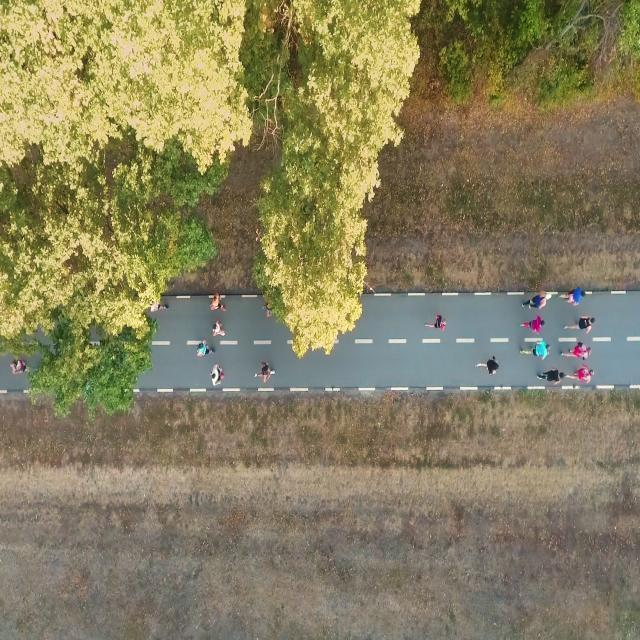vehicle: (522, 292, 554, 312), (564, 314, 596, 334), (556, 286, 586, 306), (520, 340, 550, 360), (474, 356, 500, 379), (254, 360, 276, 384), (561, 343, 591, 359), (566, 367, 594, 384), (519, 315, 545, 333), (538, 368, 564, 386), (10, 356, 30, 378), (426, 312, 446, 334), (196, 339, 216, 358), (210, 292, 226, 312), (212, 364, 224, 386), (212, 320, 225, 338), (150, 302, 168, 310)
